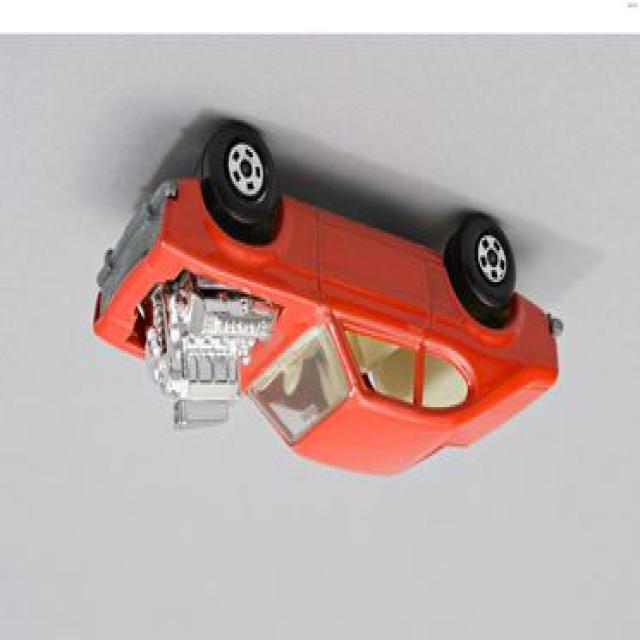Car: (91, 122, 563, 480)
